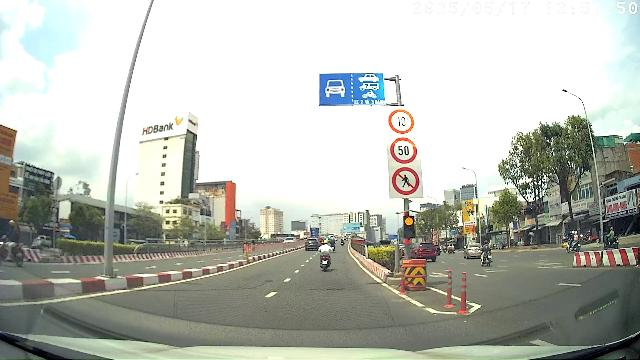127-toc-do-toi-da-50: (389, 136, 417, 166)
